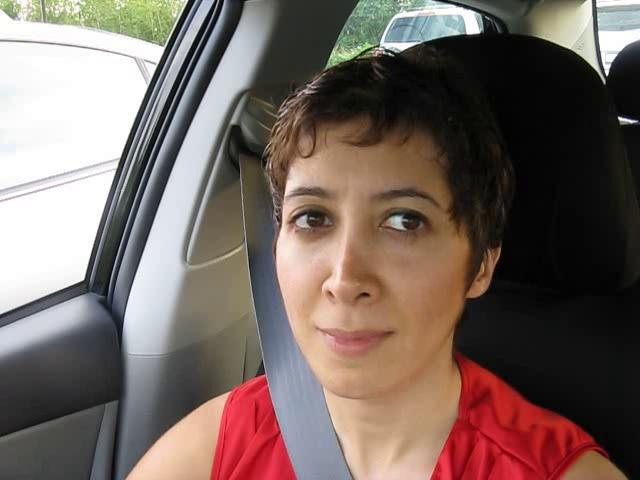no_yawn: (295, 304, 413, 366)
open_eyeL: (275, 195, 349, 248)
open_eyeR: (362, 196, 444, 246)
